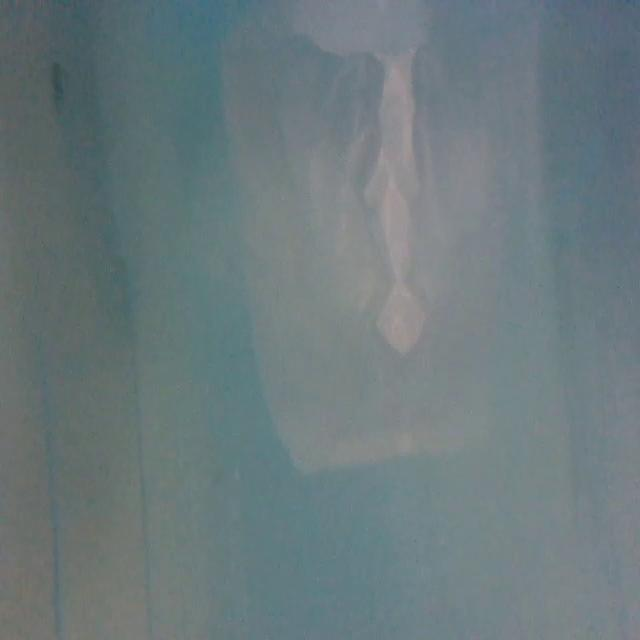plastic bags: (216, 4, 503, 478)
